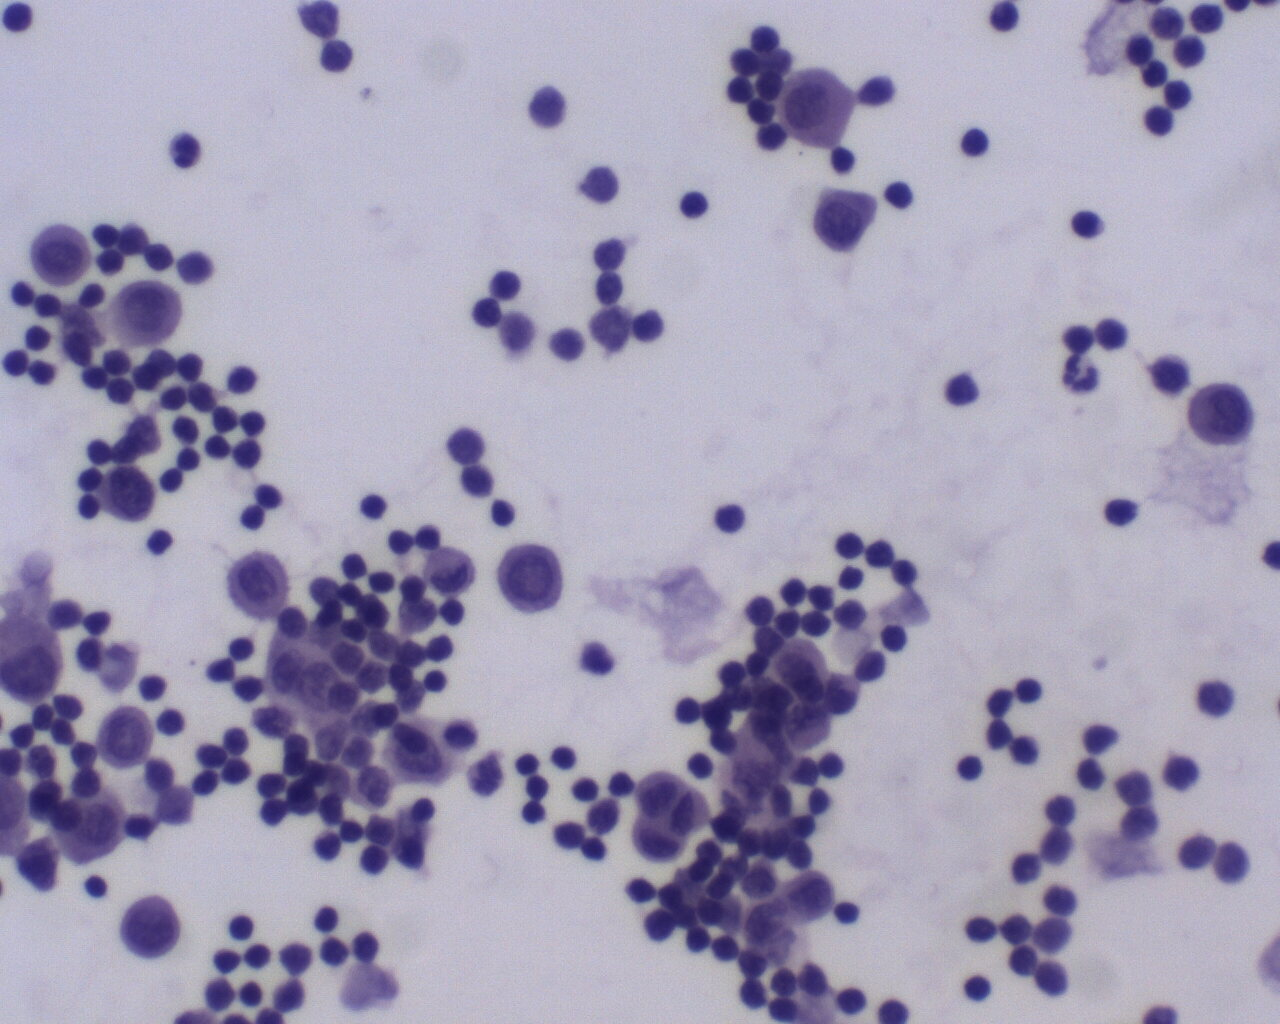ab: (494, 541, 573, 621), (1183, 377, 1260, 451), (218, 549, 296, 620), (808, 186, 881, 254), (120, 893, 181, 965), (95, 700, 158, 769), (93, 465, 164, 526), (783, 867, 838, 929)
lymph: (1094, 486, 1138, 533), (316, 36, 359, 77), (1064, 206, 1111, 243), (1138, 102, 1180, 142), (959, 907, 1000, 946), (677, 184, 713, 227), (354, 489, 393, 528), (713, 497, 750, 537), (224, 359, 261, 399), (957, 119, 993, 159), (948, 748, 985, 785), (1013, 668, 1048, 706), (468, 295, 504, 332), (833, 530, 868, 563), (225, 912, 260, 946), (154, 707, 187, 740), (962, 973, 997, 1004), (879, 620, 911, 652), (551, 739, 581, 772), (311, 902, 343, 933), (239, 408, 270, 437)
meso: (779, 66, 859, 152), (104, 277, 185, 350), (29, 218, 95, 290)
neutro: (1057, 353, 1102, 396)
